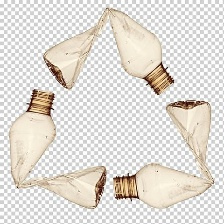bottle: (108, 95, 222, 213), (4, 86, 109, 212), (41, 5, 177, 99)
